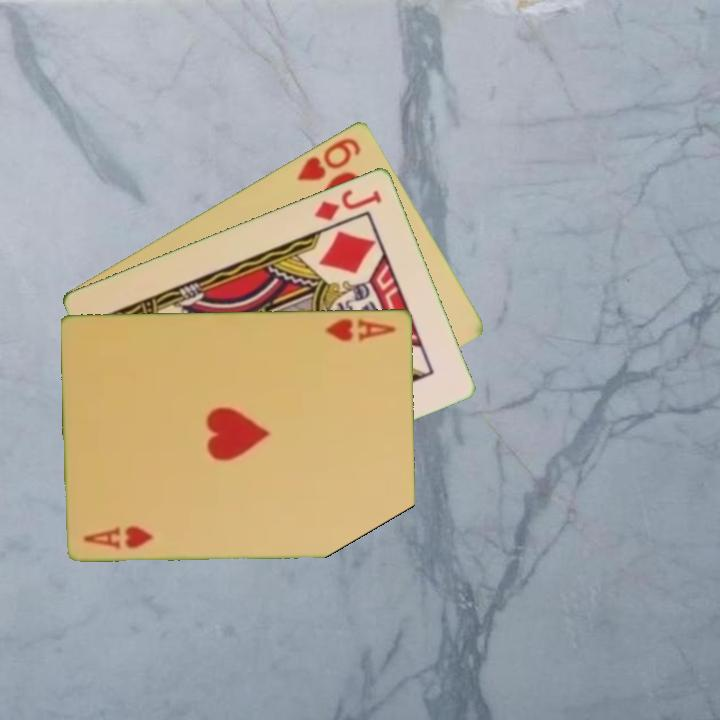6h: (294, 133, 364, 184)
Ah: (322, 314, 399, 344), (81, 522, 157, 552)
Jd: (310, 185, 385, 223)
